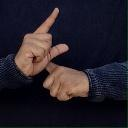hand: (14, 7, 69, 77), (43, 61, 89, 101)
